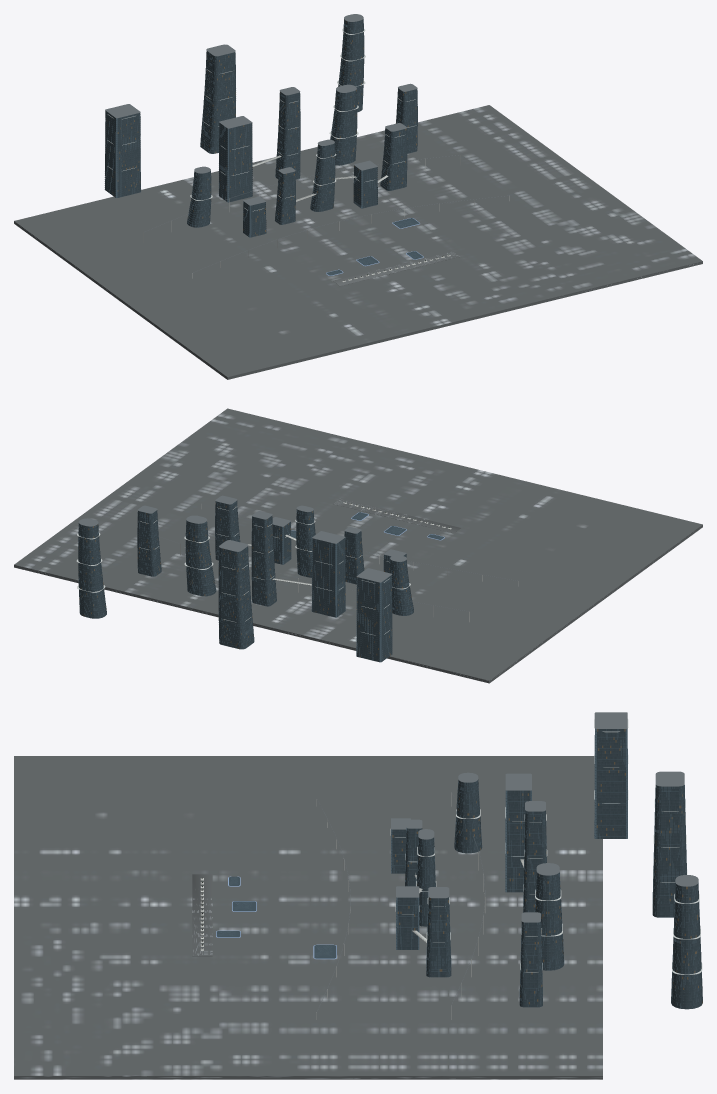
The model's file is environment.glb.
3 renders of one model, top to bottom at view 1: azimuth 30°, elevation 25°; view 2: azimuth 150°, elevation 25°; view 3: azimuth 270°, elevation 25°, orthographic. The views are drawn at different scales.
Visible parts, largest first — view 1: Static_OrbitalCity; view 2: Static_OrbitalCity; view 3: Static_OrbitalCity.
Part boxes in pixels (x1,y1,x2,y2): Static_OrbitalCity: [14, 14, 702, 379]; Static_OrbitalCity: [14, 408, 702, 683]; Static_OrbitalCity: [14, 712, 702, 1079].
Bounding box in the file's own units: 900 × 179 × 819.
14 materials, 4 textured.
